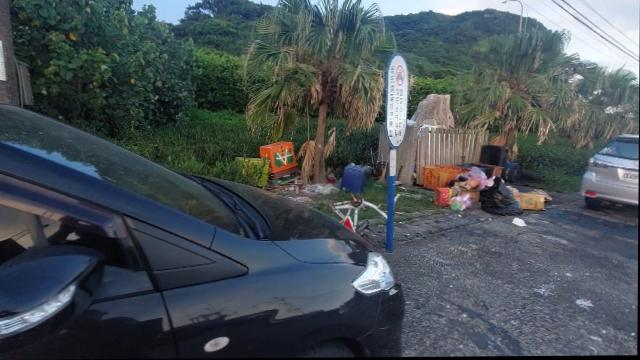pollute: (419, 163, 554, 218), (260, 142, 338, 196), (329, 198, 388, 233), (342, 164, 367, 192)
